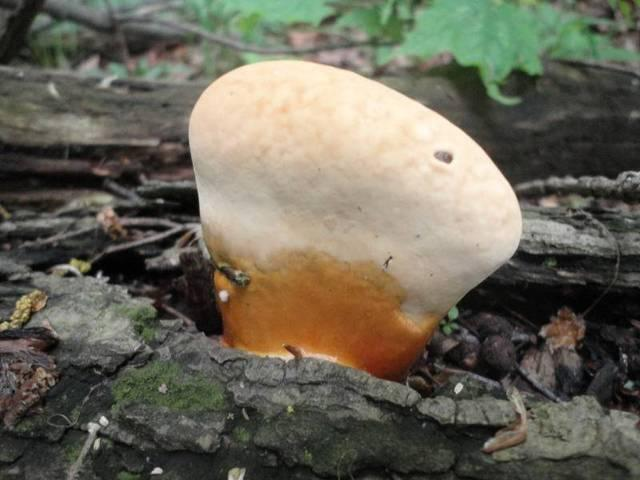poisonous_mushroom: (185, 57, 524, 382)
